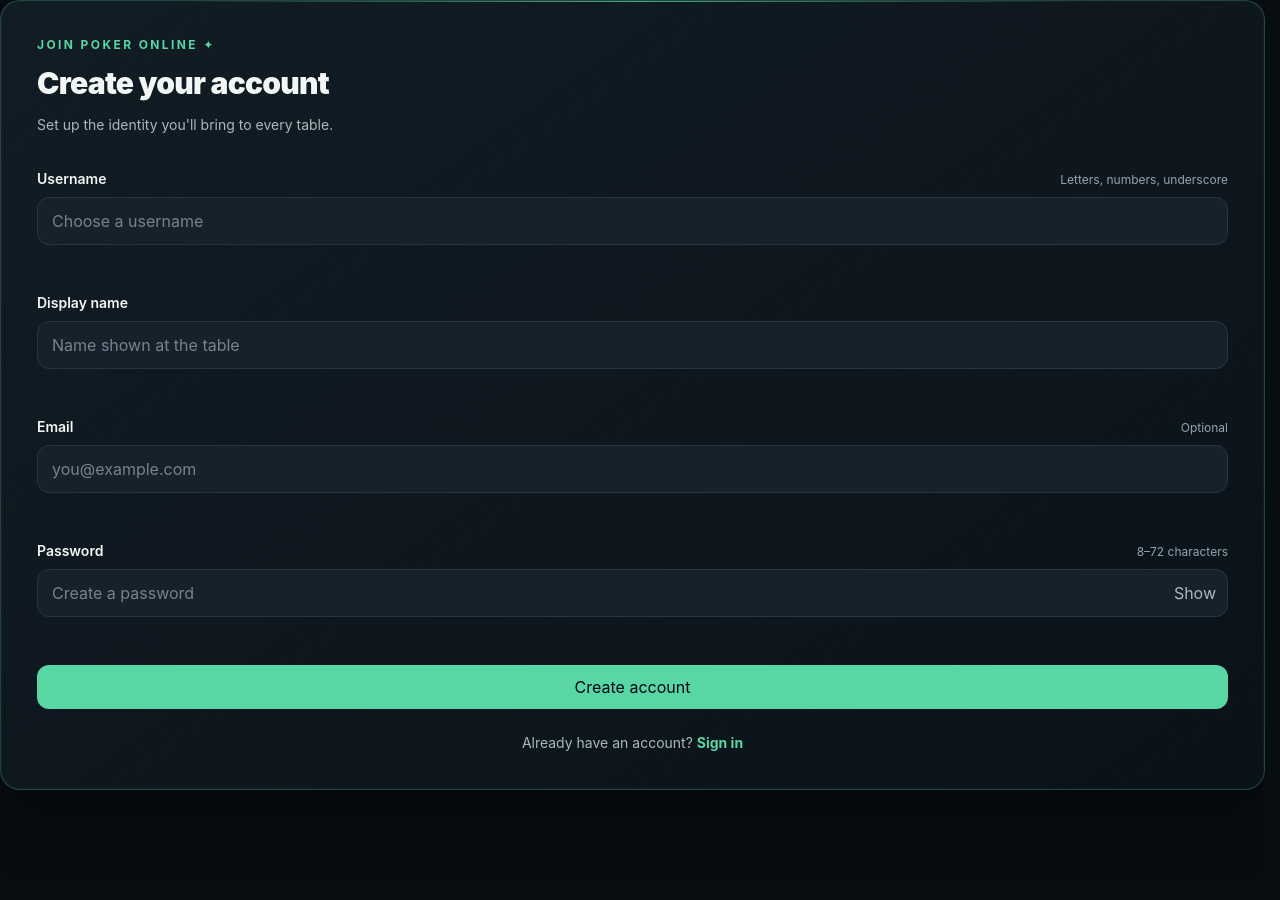
RegisterPage › renders a safe duplicate-account error and preserves entered values
Type "  new_player  " into the field labelled "Username" at (632, 221), box [37,197,1228,245]
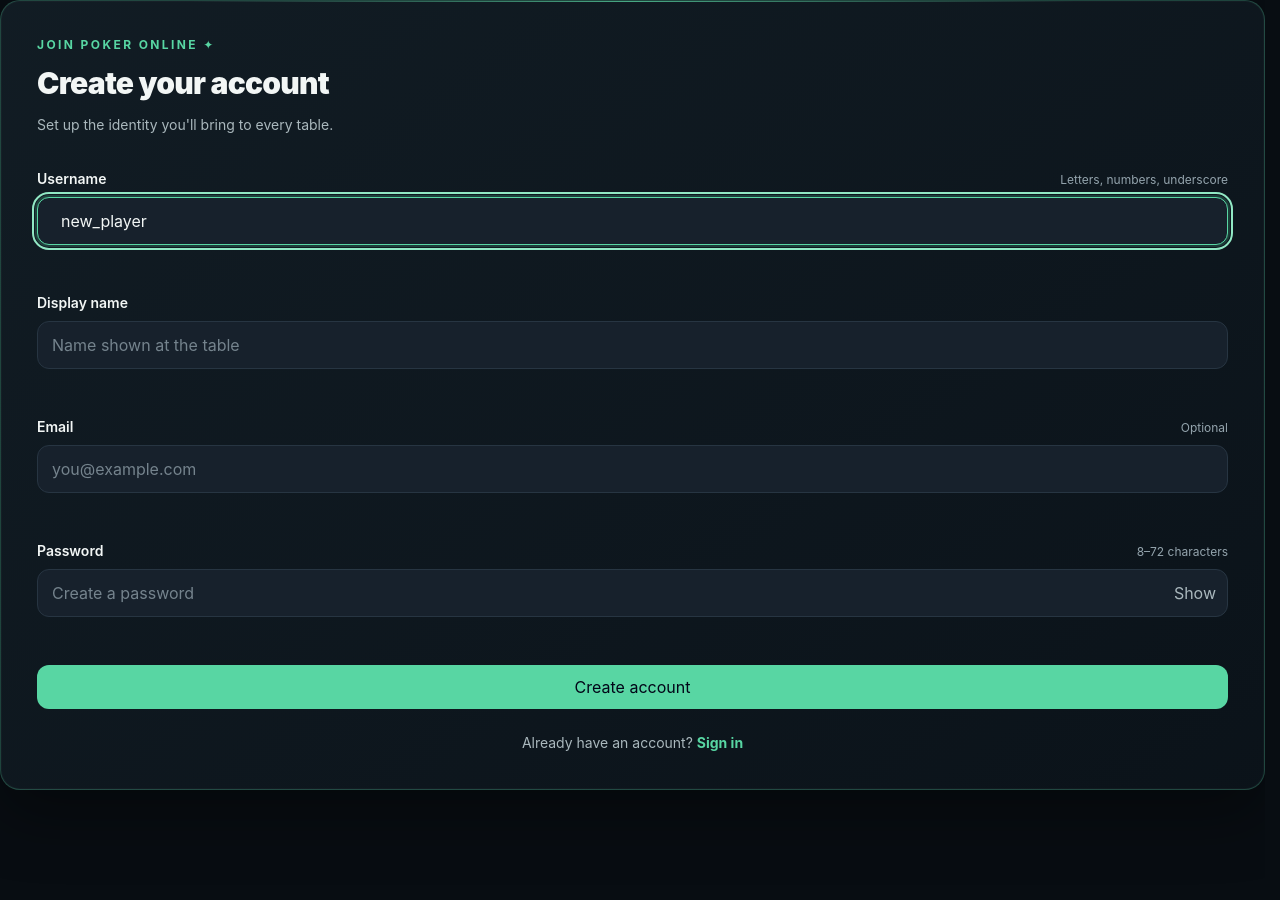
Type "  New Player  " into the field labelled "Display name" at (632, 345), box [37,321,1228,369]
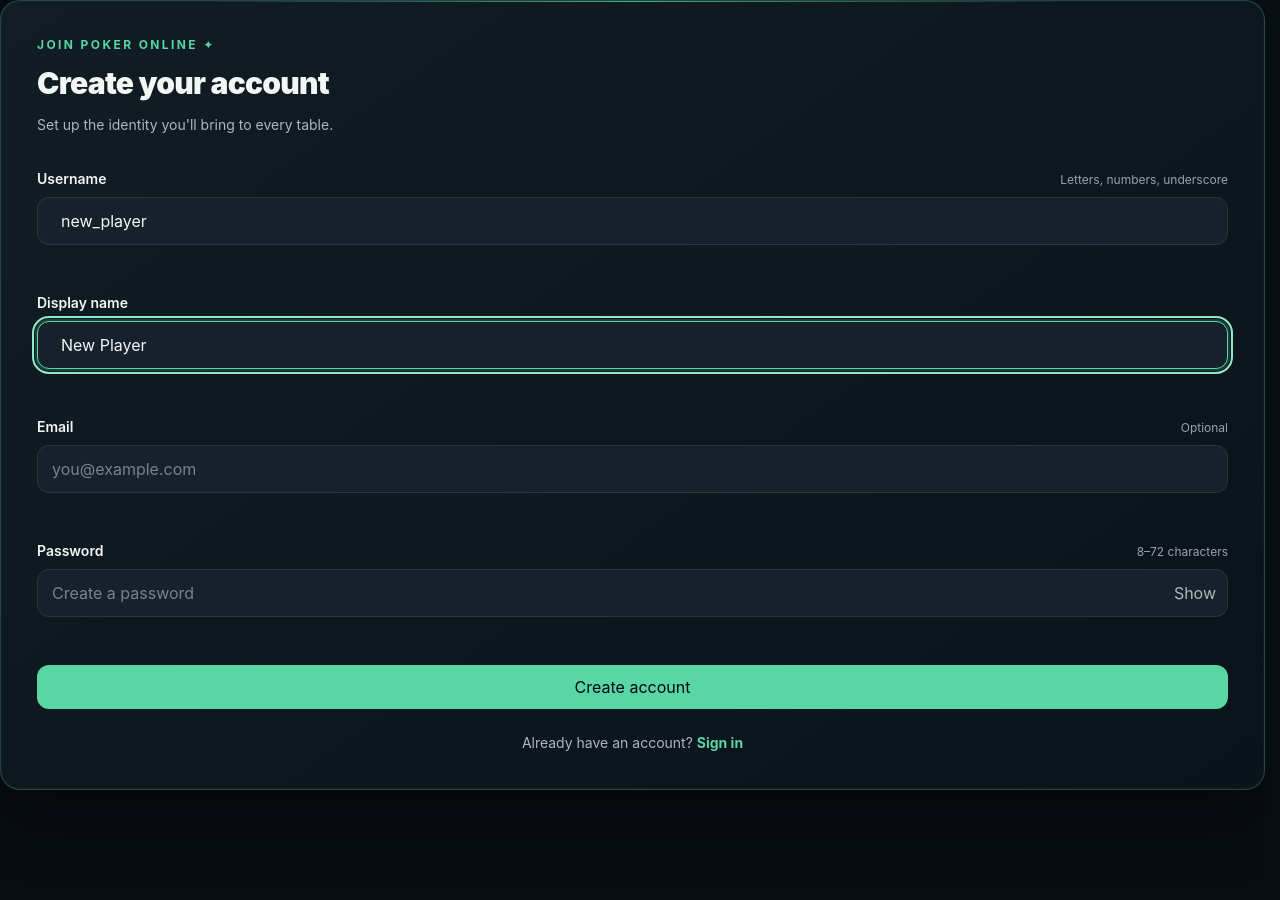
Type "secure-password" into the password field labelled "Password" at (632, 593), box [37,569,1228,617]
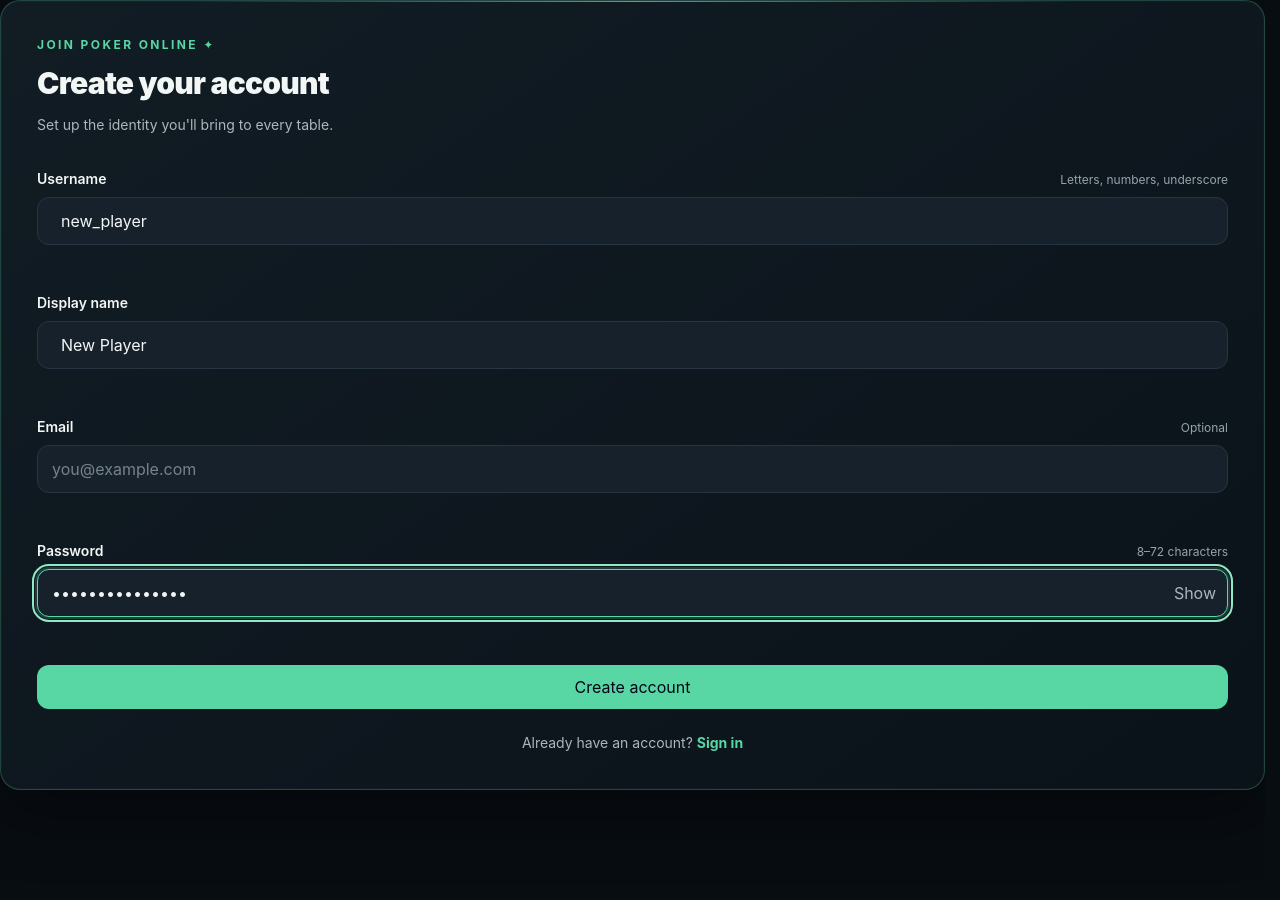
Click the button "Create account" at (632, 687), box [37,665,1228,709]
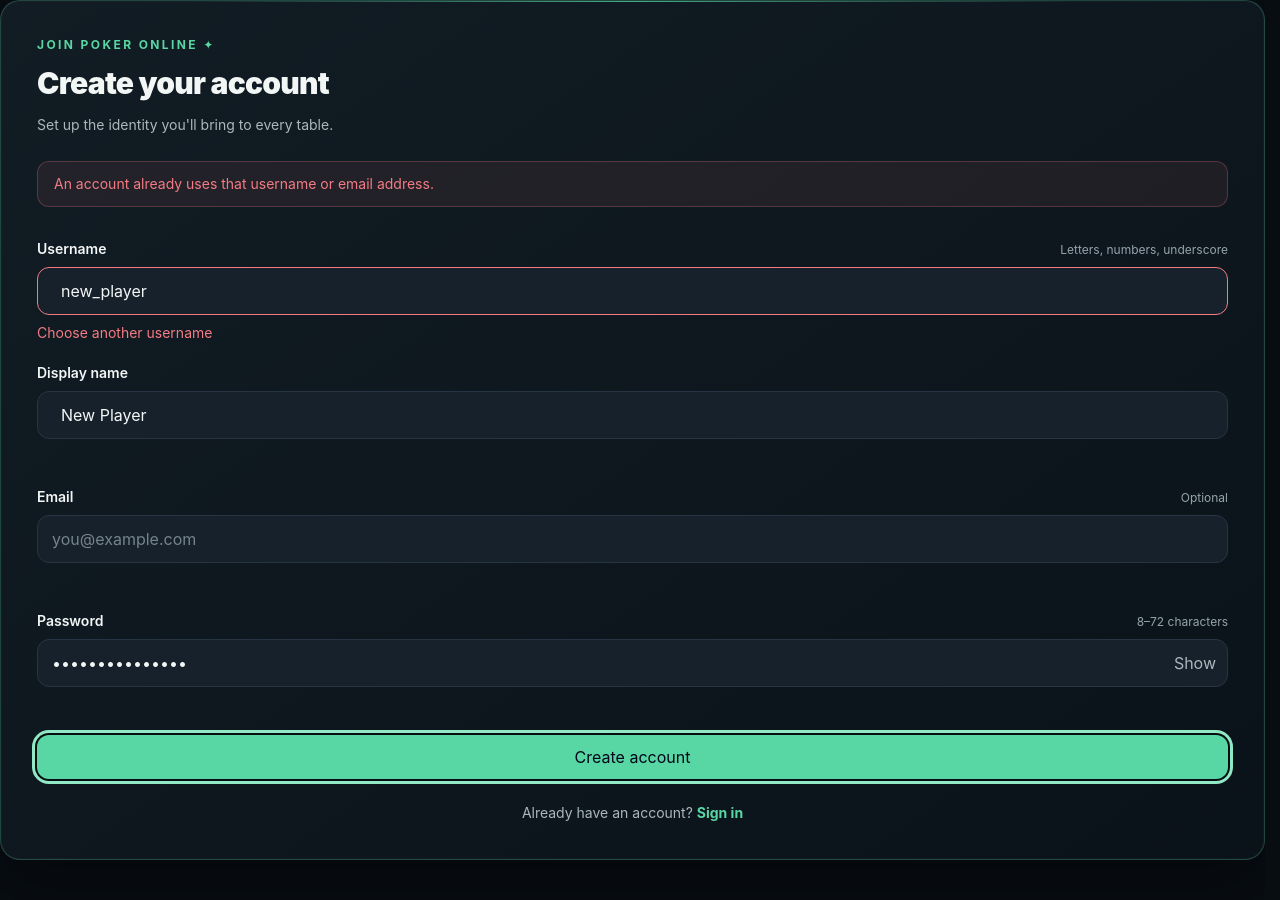
Expected: the text "Choose another username" is shown, [37,324,212,341]
Expected: the text "An account already uses that username or email address." is shown, [37,161,1228,207]
